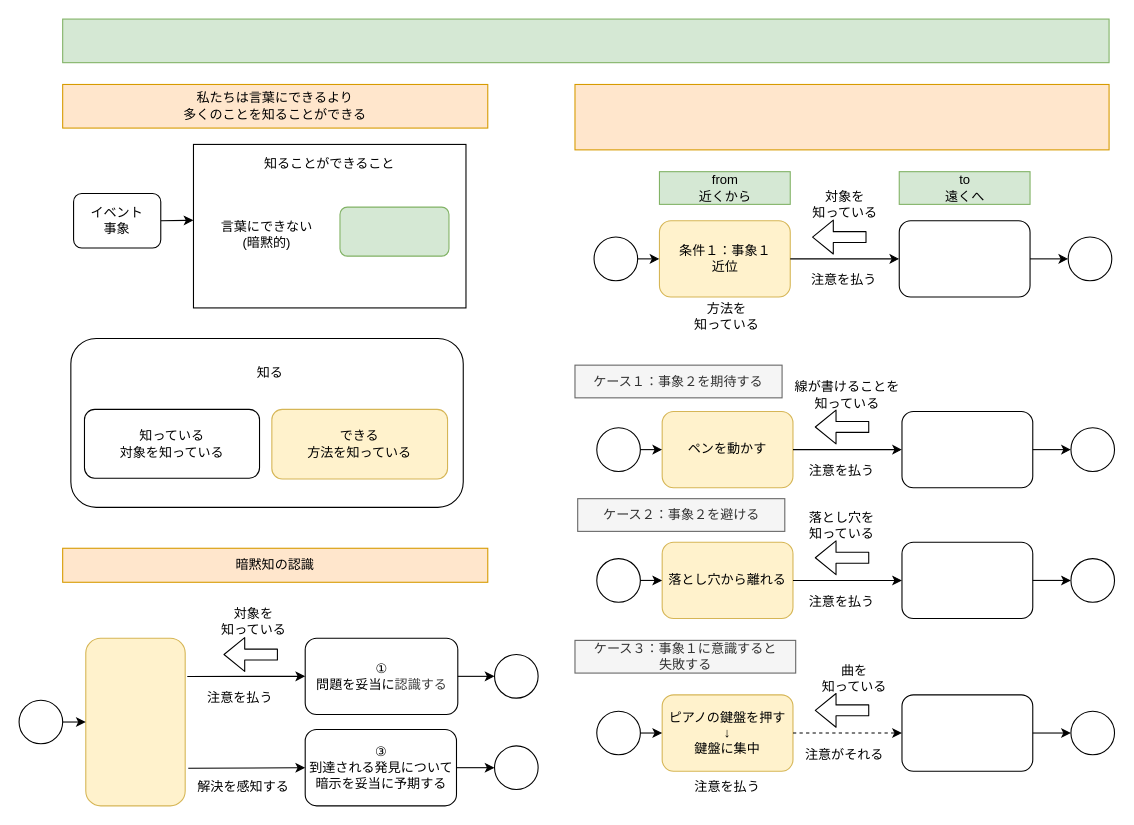
The diagram is 1134 pixels wide and 825 high, and some of its shapes have lost their labels. The shapes that lost their labels are listed below. From the top down, each one's centre as x and y in pixels, then its label:
At point (585, 40): "暗黙知の次元 第Ⅰ章 暗黙知".
At point (841, 116): "思考は必ず志向的になる 思考には、思考によって統合されることになる 思考は「～から～へ from-to」という志向構造を持つ。".
At point (394, 231): "言葉にできる (形式的)".
At point (964, 258): "条件２：事象２ 遠位".
At point (967, 449): "線が書かれる".
At point (967, 580): "落とし穴を見る ↓ 落とし穴に落ちない".
At point (135, 721): "➁ 問題を追及する".
At point (967, 732): "曲が流れる ↓ 曲が止まる".
